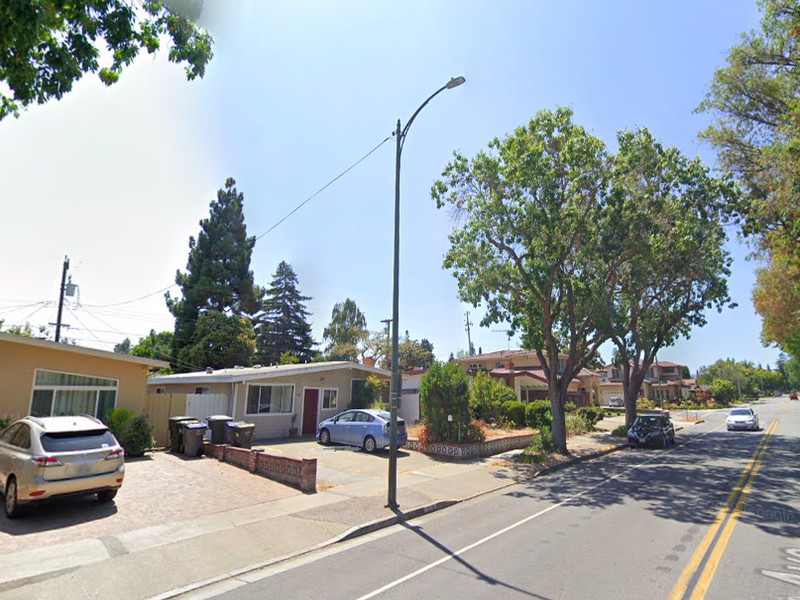tree: (429, 102, 672, 458), (580, 124, 750, 434)
utility_pole: (45, 249, 86, 317)
